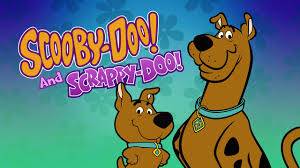scooby: (171, 12, 300, 168), (116, 82, 174, 168)
